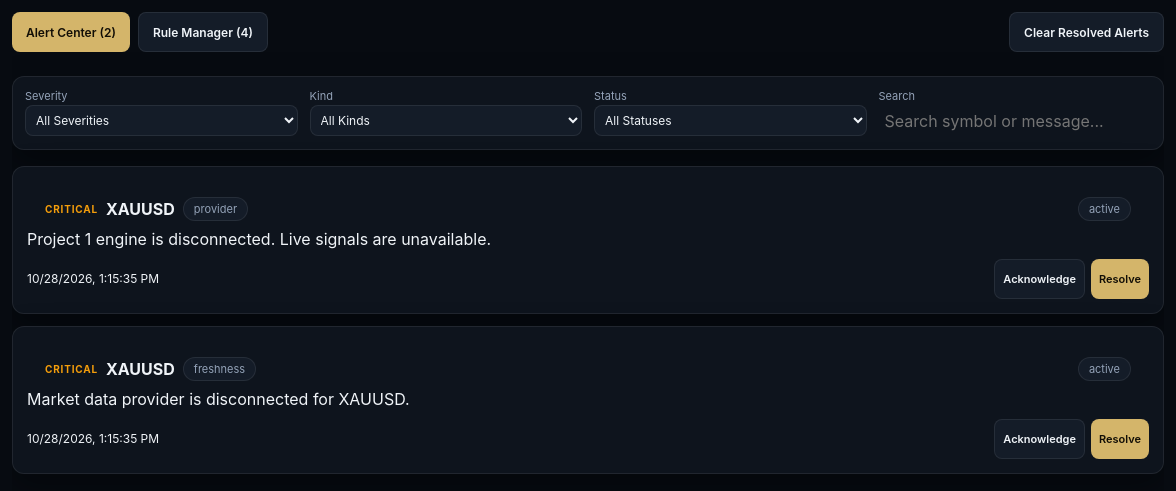
AlertCenter Component › allows switching to Rule Manager tab and shows rule form
Click the button "Rule Manager (4)".
click(203, 32)  # box 138,12 -> 268,52
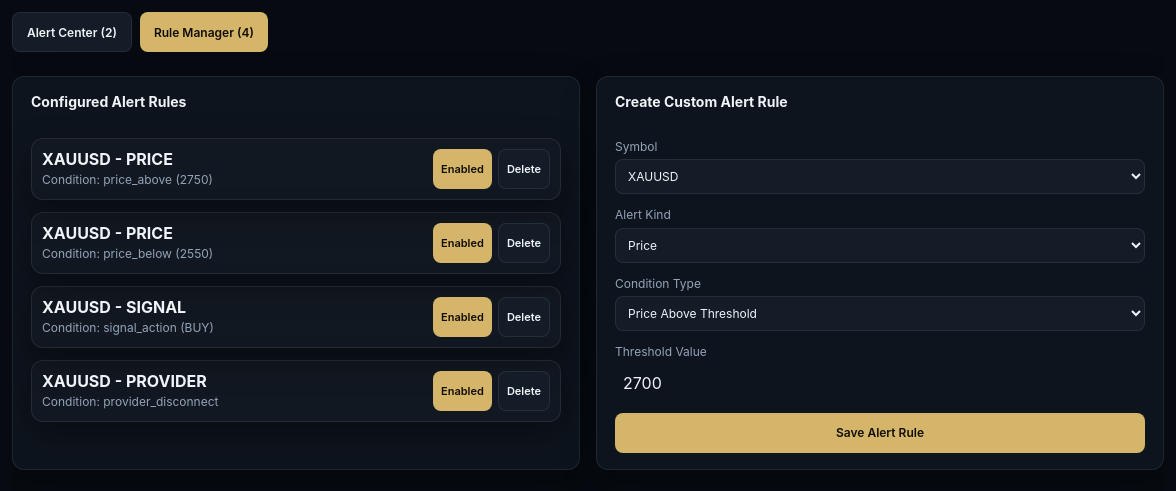
Expected: the heading "Configured Alert Rules" is shown, 31,93 -> 186,110
Expected: the heading "Create Custom Alert Rule" is shown, 615,93 -> 788,110
